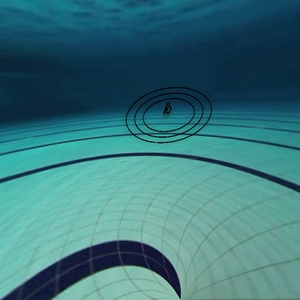circle: (117, 74, 217, 155)
submarine: (160, 101, 181, 122)
